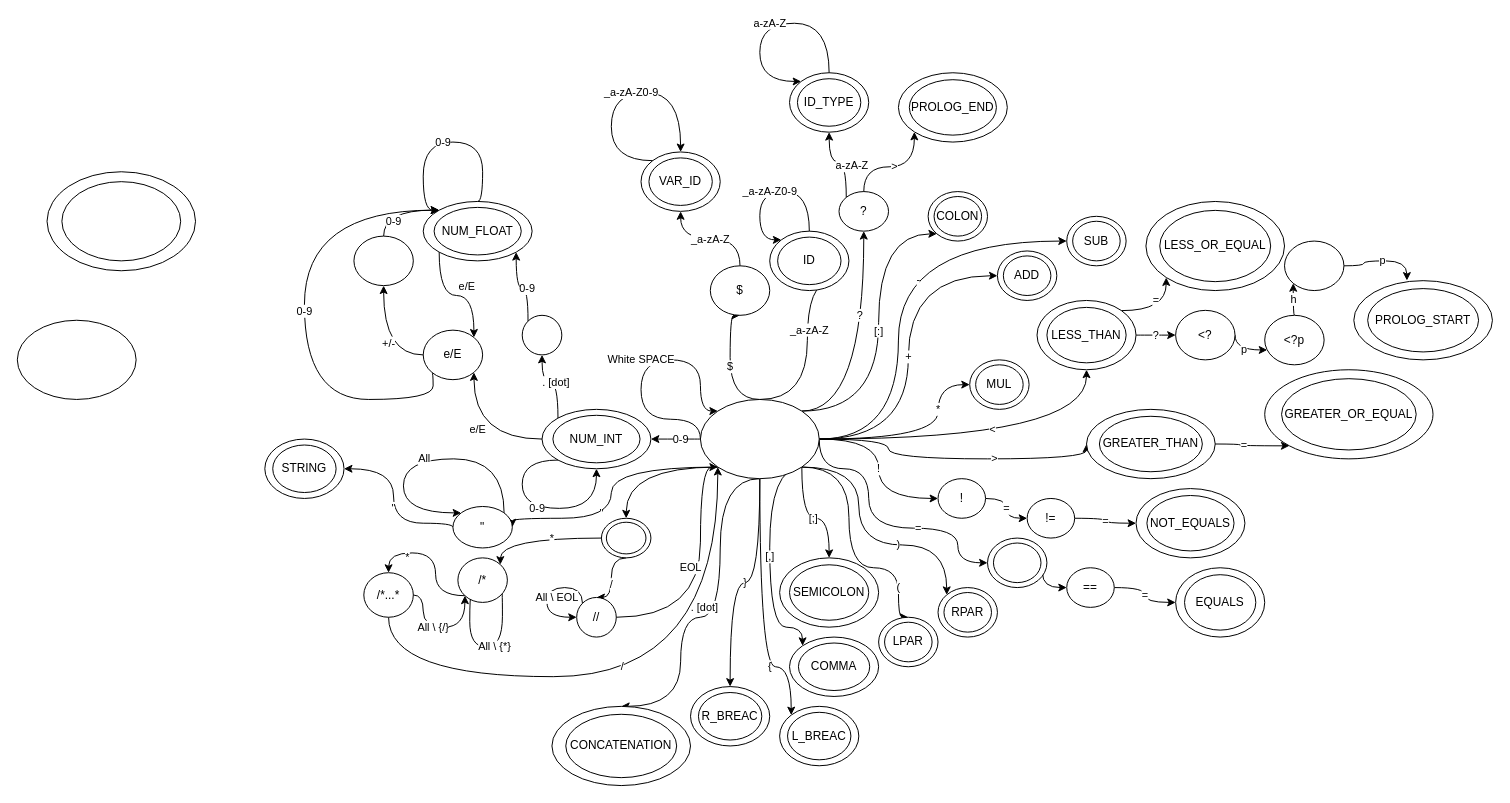
Image size: 1510x803. Some labels were removed from this diagram. Each missing label, with the box of its shape:
<?ph: (1284, 240, 1344, 291)
ASIGN: (992, 542, 1041, 583)
DIV: (605, 521, 646, 554)
e/E+-: (353, 235, 413, 286)
NUM: (521, 314, 562, 355)
Start: (699, 398, 819, 479)
